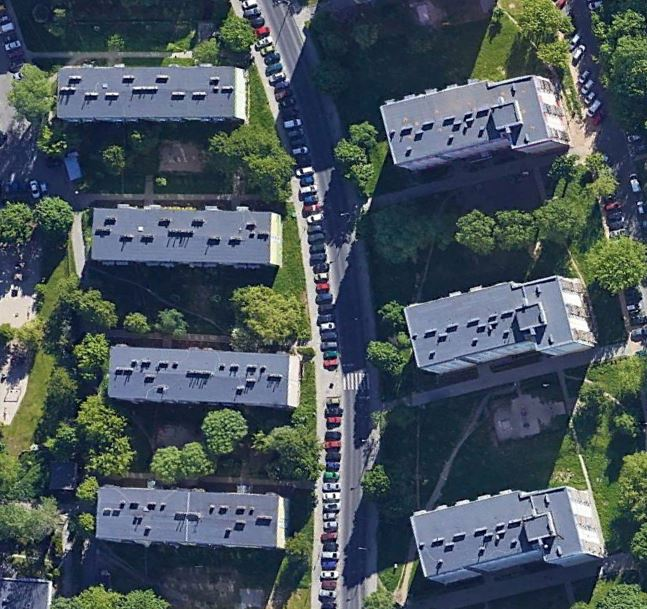block of flats: (373, 68, 572, 188), (402, 482, 607, 595), (399, 273, 604, 384), (81, 203, 287, 275), (91, 479, 291, 552), (47, 59, 251, 129), (102, 343, 303, 412)
